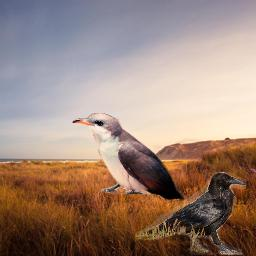Crow: (135, 172, 246, 255)
Cuckoo: (72, 113, 185, 200)
